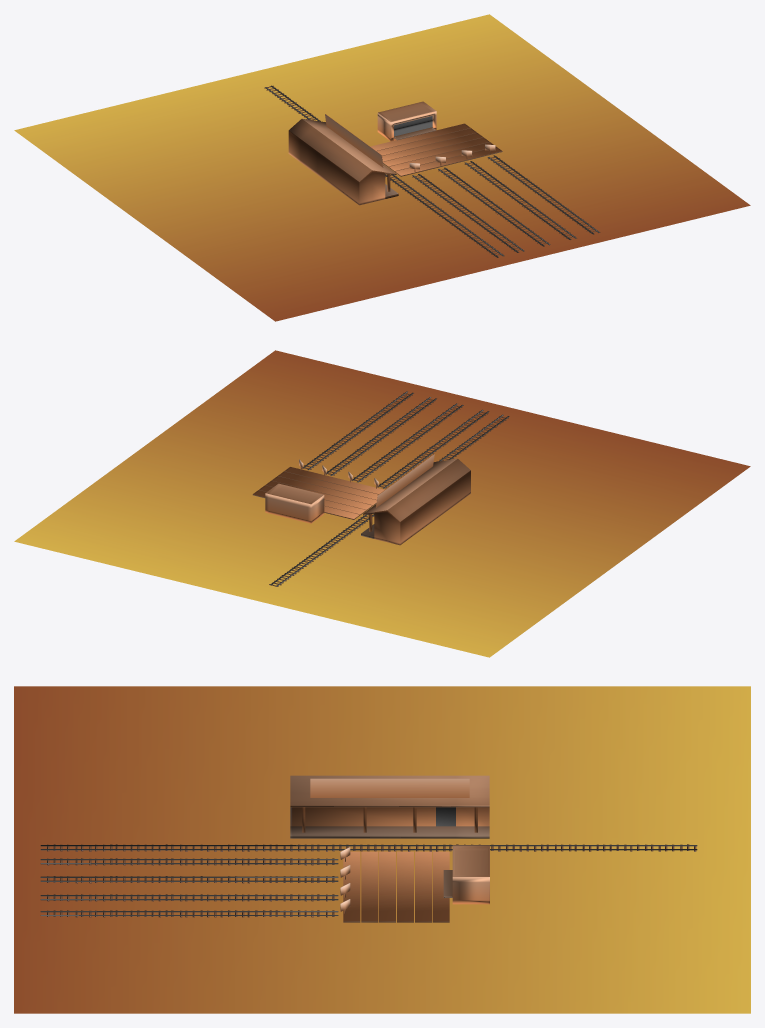
The model's file is Store_Intento CON Smooth.fbx.
3 renders of one model, top to bottom at view 1: azimuth 30°, elevation 25°; view 2: azimuth 150°, elevation 25°; view 3: azimuth 270°, elevation 25°, orthographic. The views are drawn at different scales.
Visible parts, largest first — view 1: Plane.001, Cube.003, Cube.005, Cube, Plane.003, Plane.002, Cube.004; view 2: Plane.001, Cube.003, Cube.005, Cube, Plane.002, Plane.003, Cube.004; view 3: Plane.001, Cube.003, Cube.005, Cube.004, Cube, Plane.002, Plane.003, Plane.004, Plane.006, Plane.008, Plane.010, Plane.009 (+3 smaller).
Part boxes in pixels (x1,y1,x2,y2): Plane.001: [14, 14, 750, 321]; Cube.003: [288, 118, 398, 205]; Cube.005: [370, 123, 502, 176]; Cube: [377, 101, 436, 141]; Plane.003: [264, 85, 503, 256]; Plane.002: [265, 85, 504, 257]; Cube.004: [325, 114, 383, 167]; Plane.001: [14, 350, 750, 657]; Cube.003: [361, 458, 470, 545]; Cube.005: [252, 467, 384, 519]; Cube: [265, 483, 324, 523]; Plane.002: [270, 414, 509, 586]; Plane.003: [269, 416, 508, 586]; Cube.004: [376, 454, 434, 507]; Plane.001: [14, 686, 750, 1013]; Cube.003: [290, 775, 489, 838]; Cube.005: [343, 851, 449, 922]; Cube.004: [310, 778, 469, 797]; Cube: [443, 845, 489, 904]; Plane.002: [40, 845, 697, 850]; Plane.003: [47, 844, 696, 851]; Plane.004: [40, 859, 338, 864]; Plane.006: [40, 876, 338, 881]; Plane.008: [40, 895, 338, 900]; Plane.010: [40, 911, 338, 915]; Plane.009: [47, 894, 334, 901].
Size of the model in its own units: 15297 by 1174 by 14560.
